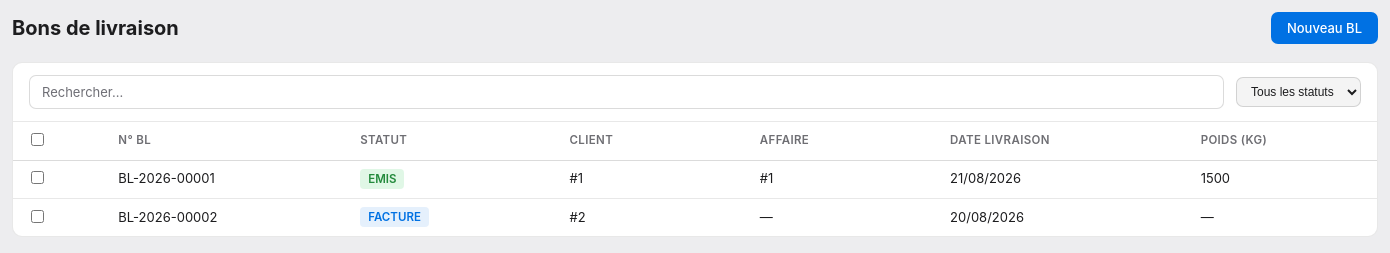
R17 - Liste Bons de livraison › filtre par statut
The width and height of the screenshot is (1390, 253).
Expected: the text "BL-2026-00001" is shown, [104,160,346,198]
Select "FACTURE" in the dropdown at (1298, 92), box [1236,77,1361,107]
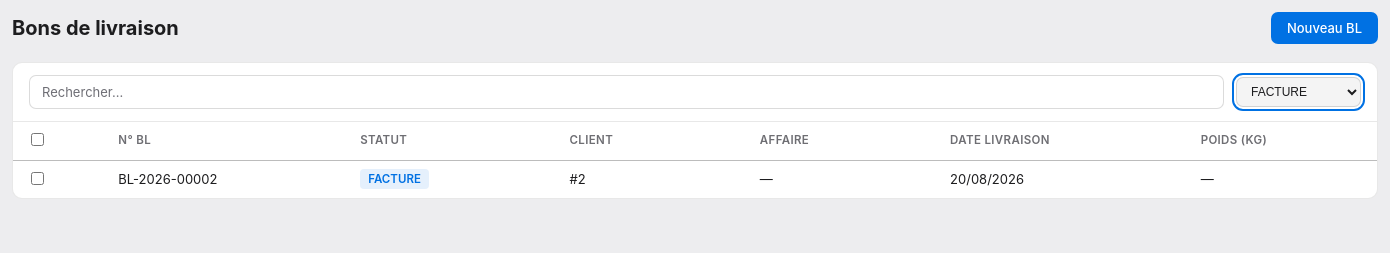
Now the text "BL-2026-00001" is gone
Now the text "BL-2026-00002" is shown, box [104,160,346,198]
